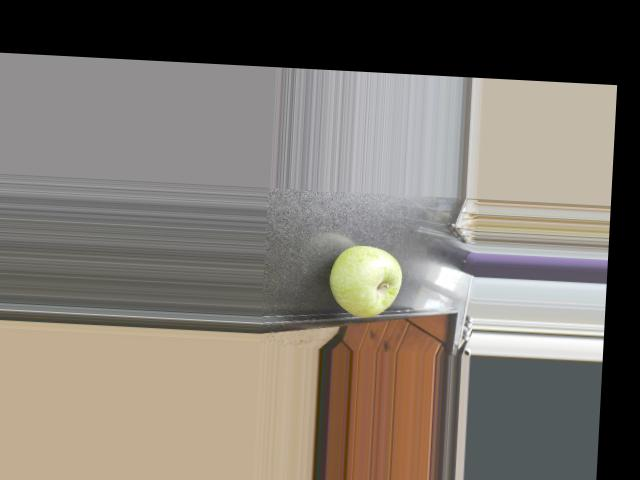apple: (323, 239, 407, 320)
